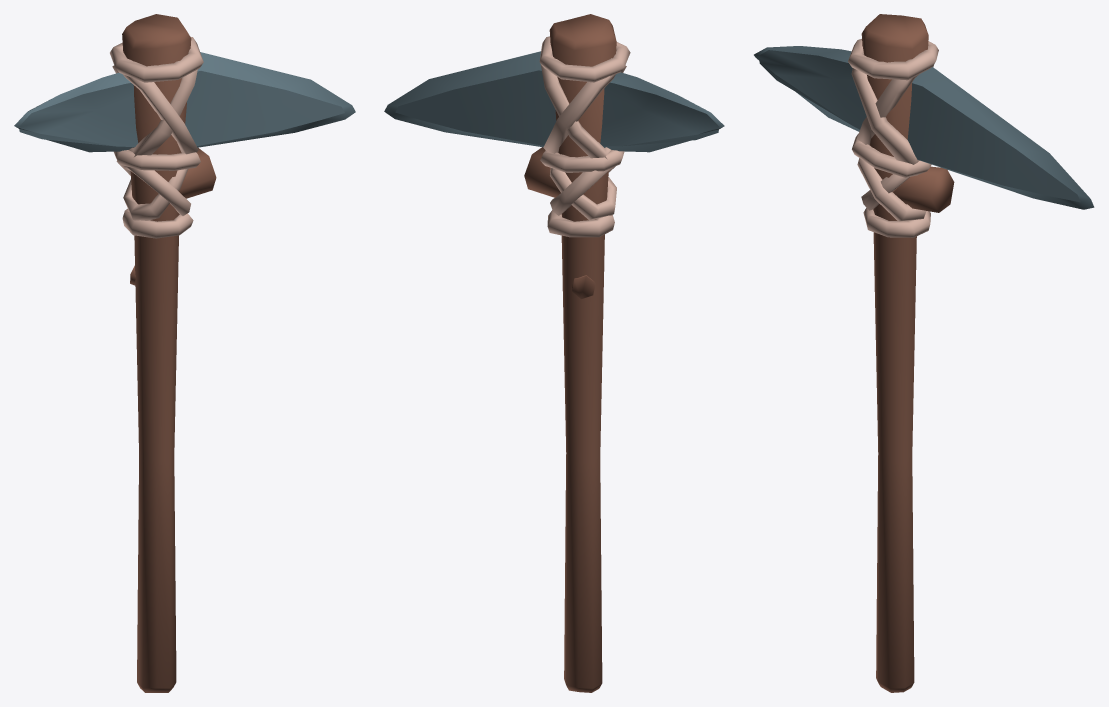
File: flint_pickaxe.fbx
The picture shows the model from 3 angles, left to right: view 1: azimuth 30°, elevation 25°; view 2: azimuth 150°, elevation 25°; view 3: azimuth 330°, elevation 25°; orthographic projection.
Visible parts, largest first — view 1: flint_pickaxe; view 2: flint_pickaxe; view 3: flint_pickaxe.
Boxes of the visible parts, x1,y1,x2,y2 form: flint_pickaxe: [14, 14, 355, 692]; flint_pickaxe: [384, 14, 724, 692]; flint_pickaxe: [754, 14, 1094, 692].
Bounding box in the file's own units: 626 × 1157 × 149.
